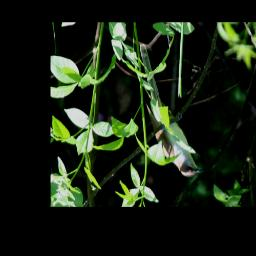Cuckoo: (139, 44, 206, 177)
